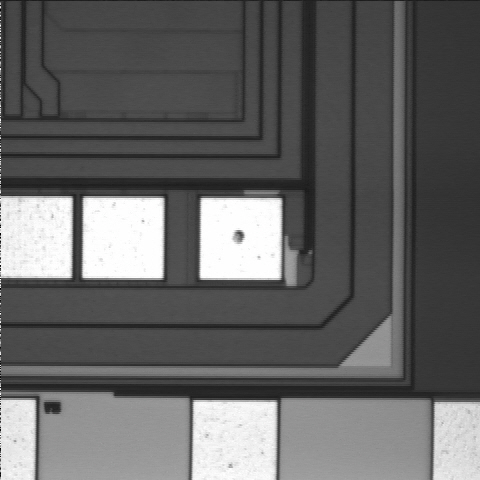pad: (200, 198, 282, 280), (82, 198, 164, 278)
